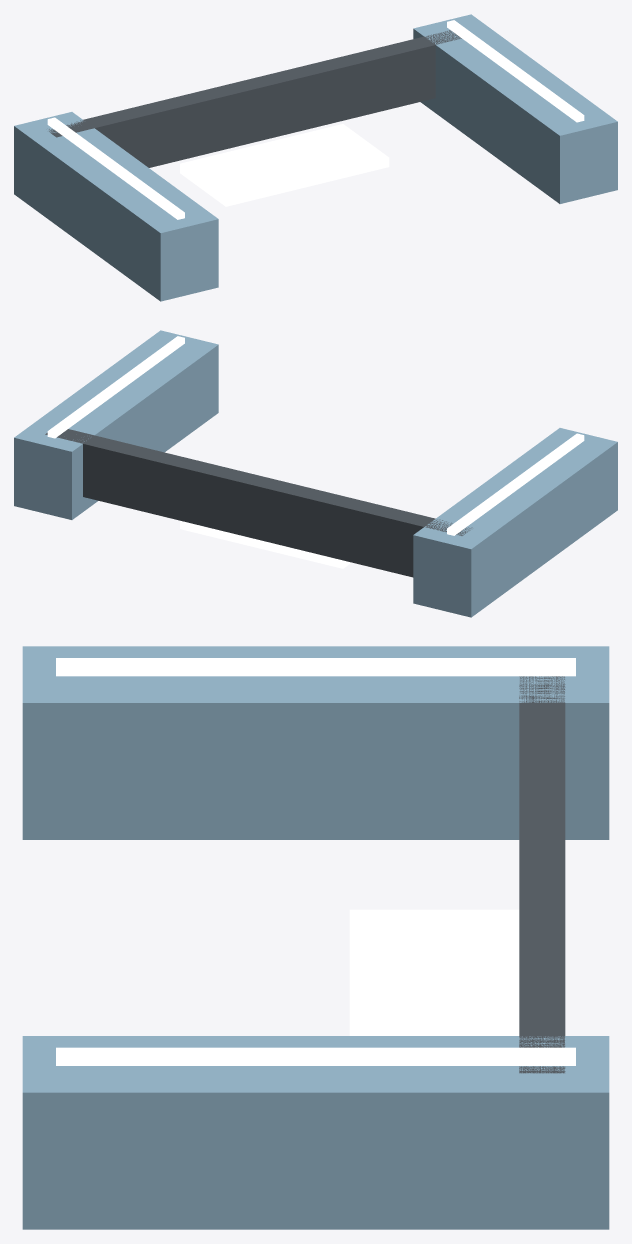
The model's file is interact_finish_frame_rift.glb.
3 views of the same model, one above another, from view 1: azimuth 30°, elevation 25°; view 2: azimuth 150°, elevation 25°; view 3: azimuth 270°, elevation 25° (orthographic). The views are drawn at different scales.
Visible parts, largest first — view 1: interact_finish_frame_rift; view 2: interact_finish_frame_rift; view 3: interact_finish_frame_rift.
Boxes of the visible parts, x1,y1,x2,y2 form: interact_finish_frame_rift: [14, 14, 617, 301]; interact_finish_frame_rift: [14, 330, 617, 617]; interact_finish_frame_rift: [22, 646, 609, 1229].
Bounding box in the file's own units: 12.6 × 2 × 7.
